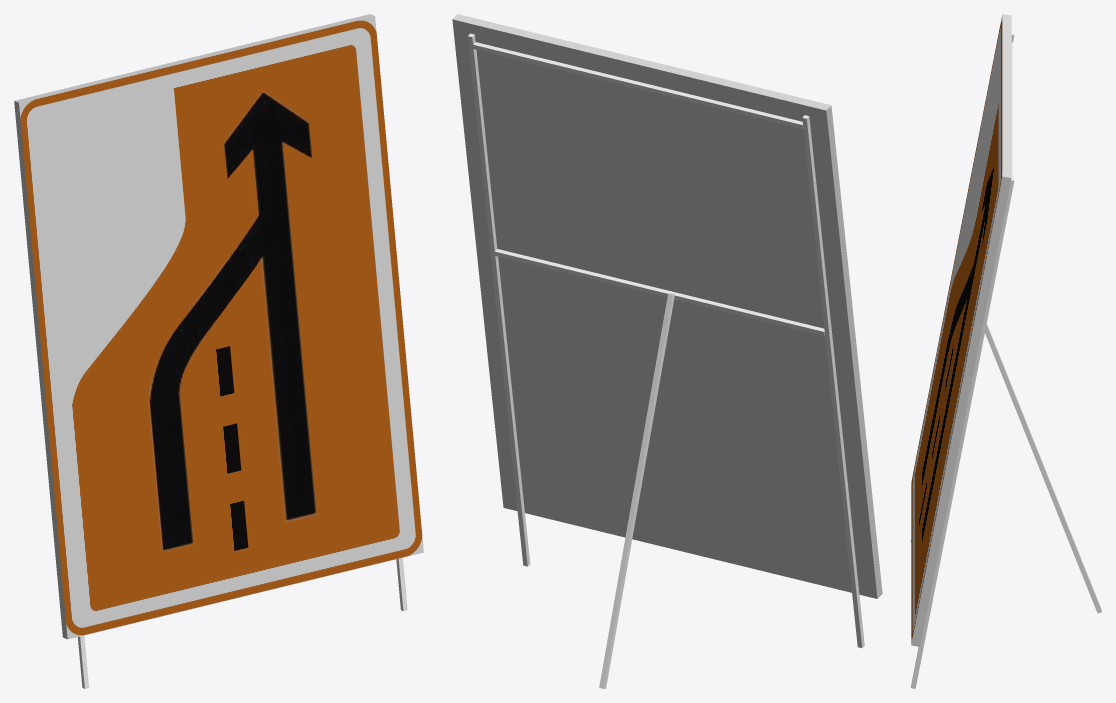
Rendered from 汇聚车道-B.glb.
The picture shows the model from 3 angles, left to right: view 1: azimuth 30°, elevation 25°; view 2: azimuth 150°, elevation 25°; view 3: azimuth 270°, elevation 25°; orthographic projection. The views are drawn at different scales.
Visible parts, largest first — view 1: 立方体-材质.3, 立方体-材质.5; view 2: 立方体-材质.5, 立方体.4, 立方体.3, 立方体.7, 立方体.5, 立方体.6; view 3: 立方体-材质.3, 立方体-材质.5, 立方体.3, 立方体.7.
Part boxes in pixels (x1,y1,x2,y2): 立方体-材质.3: [19, 16, 423, 639]; 立方体-材质.5: [14, 14, 374, 639]; 立方体-材质.5: [452, 14, 882, 598]; 立方体.4: [802, 115, 864, 647]; 立方体.3: [468, 33, 530, 566]; 立方体.7: [599, 293, 674, 688]; 立方体.5: [469, 42, 803, 129]; 立方体.6: [491, 249, 824, 336]; 立方体-材质.3: [911, 15, 1002, 643]; 立方体-材质.5: [911, 14, 1011, 646]; 立方体.3: [911, 178, 1014, 688]; 立方体.7: [985, 323, 1101, 613].
Size of the model in its own units: 5.71 by 8.56 by 2.83.
Materials: 3 (1 with a texture image).
